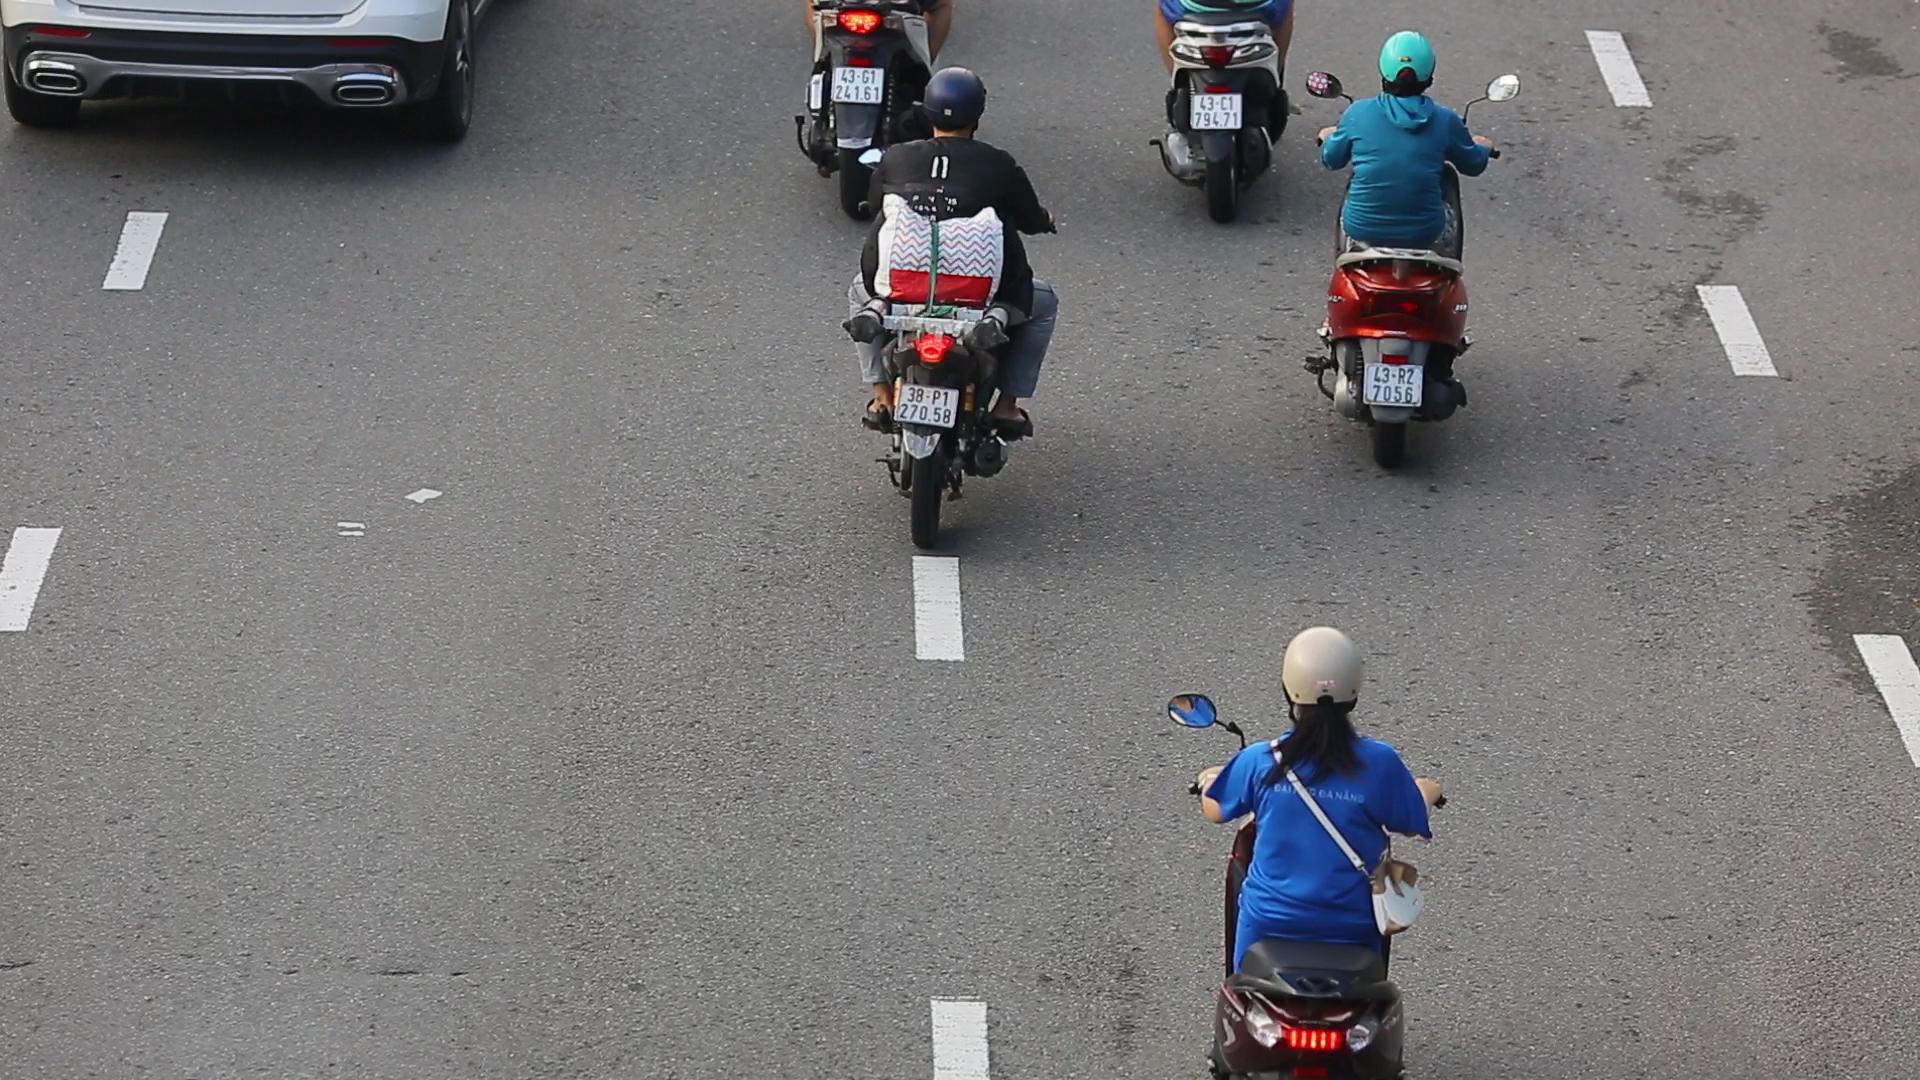motobike: (845, 61, 1071, 556), (1304, 12, 1536, 476)
